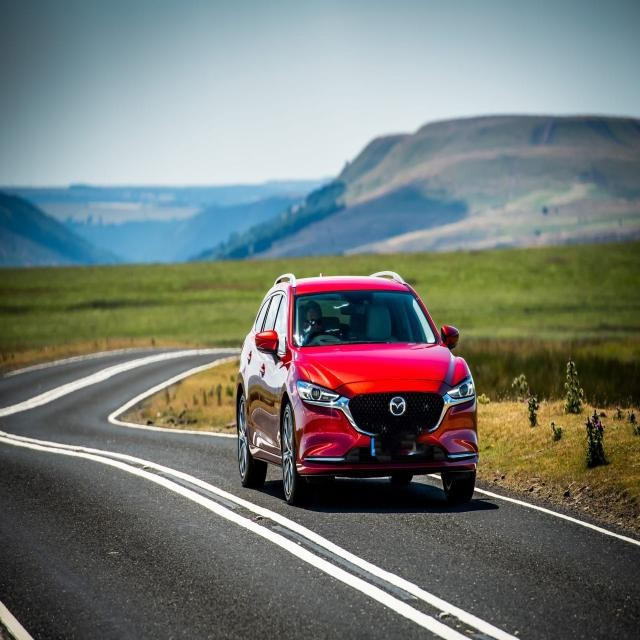car: (236, 270, 480, 506)
